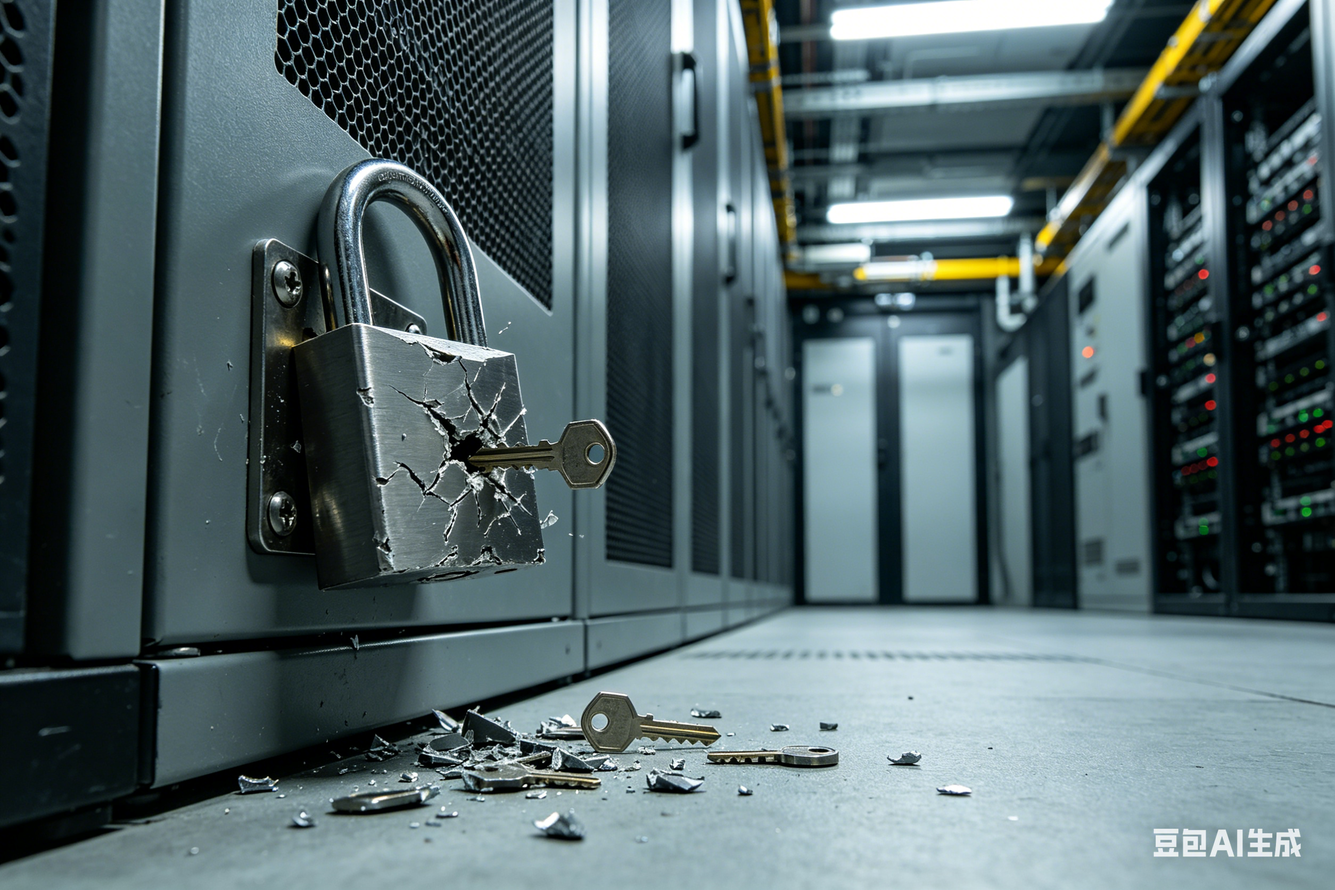BadLock: (405, 392, 560, 563)
